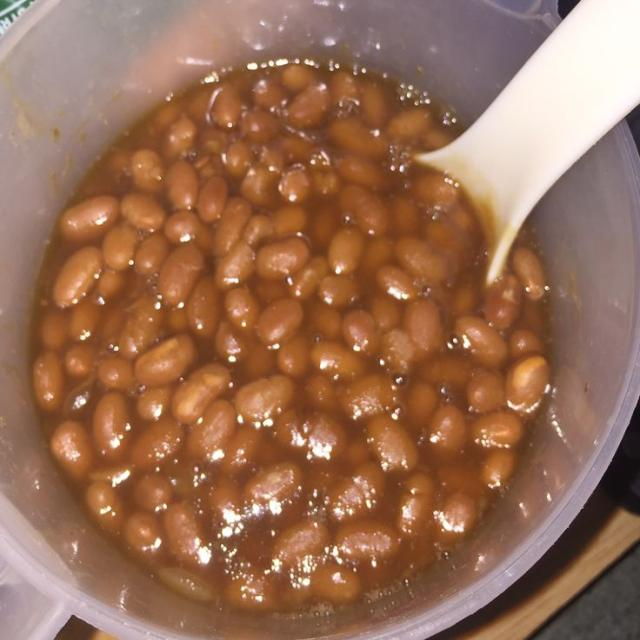beans: (33, 62, 550, 615), (172, 364, 231, 423), (276, 411, 346, 460), (329, 464, 384, 522), (134, 334, 195, 386), (53, 247, 103, 308), (187, 400, 236, 462), (118, 295, 164, 359), (158, 243, 204, 306), (244, 464, 302, 513), (367, 416, 418, 470), (60, 196, 119, 242), (454, 316, 507, 367), (235, 376, 293, 422), (93, 392, 131, 461), (131, 419, 183, 469), (335, 521, 398, 562), (395, 237, 449, 284), (50, 421, 93, 480), (273, 521, 328, 567), (506, 355, 549, 413), (163, 503, 202, 566), (397, 473, 435, 537), (424, 218, 468, 273), (329, 118, 388, 159), (340, 185, 388, 235), (256, 237, 310, 279), (212, 199, 251, 256), (225, 570, 279, 611), (344, 374, 393, 419), (256, 299, 303, 345), (404, 300, 444, 354), (156, 566, 214, 602), (313, 563, 361, 605), (485, 275, 521, 330), (187, 276, 220, 336), (221, 425, 261, 474), (214, 243, 256, 289), (311, 342, 363, 379), (423, 354, 473, 392), (306, 413, 346, 460), (288, 84, 330, 128), (33, 352, 64, 411), (512, 247, 546, 300), (309, 207, 349, 252), (437, 492, 477, 537), (336, 155, 387, 190), (473, 412, 524, 447), (429, 405, 466, 453), (86, 482, 123, 530), (121, 194, 166, 232), (102, 225, 139, 271), (327, 228, 364, 274), (380, 329, 418, 373), (165, 161, 199, 209), (405, 381, 439, 429), (164, 211, 208, 248), (412, 172, 459, 206), (123, 512, 161, 554), (467, 370, 504, 413), (291, 257, 328, 299), (342, 310, 378, 353), (97, 301, 126, 354), (208, 477, 240, 525), (240, 166, 277, 207), (376, 265, 418, 301), (224, 287, 259, 329), (163, 116, 197, 159), (130, 150, 164, 193), (197, 176, 228, 223), (387, 108, 431, 141), (134, 473, 172, 511), (134, 234, 169, 275), (68, 299, 101, 341), (360, 82, 390, 128), (318, 274, 358, 308), (277, 336, 310, 377), (214, 321, 247, 362), (211, 86, 242, 128), (241, 110, 279, 144), (482, 449, 515, 488), (361, 237, 393, 277), (137, 386, 172, 422), (390, 197, 420, 239), (309, 303, 341, 340), (279, 167, 311, 203), (40, 309, 68, 350), (330, 71, 361, 107), (306, 375, 337, 411), (370, 295, 401, 331), (449, 283, 480, 318), (223, 141, 252, 178), (89, 463, 133, 487), (65, 343, 96, 377), (96, 269, 128, 301), (253, 79, 286, 109), (509, 330, 544, 358), (280, 65, 315, 92), (243, 215, 273, 246), (280, 134, 313, 162), (260, 143, 286, 176), (421, 124, 454, 150), (152, 102, 180, 132), (312, 169, 340, 196), (166, 308, 188, 332)
